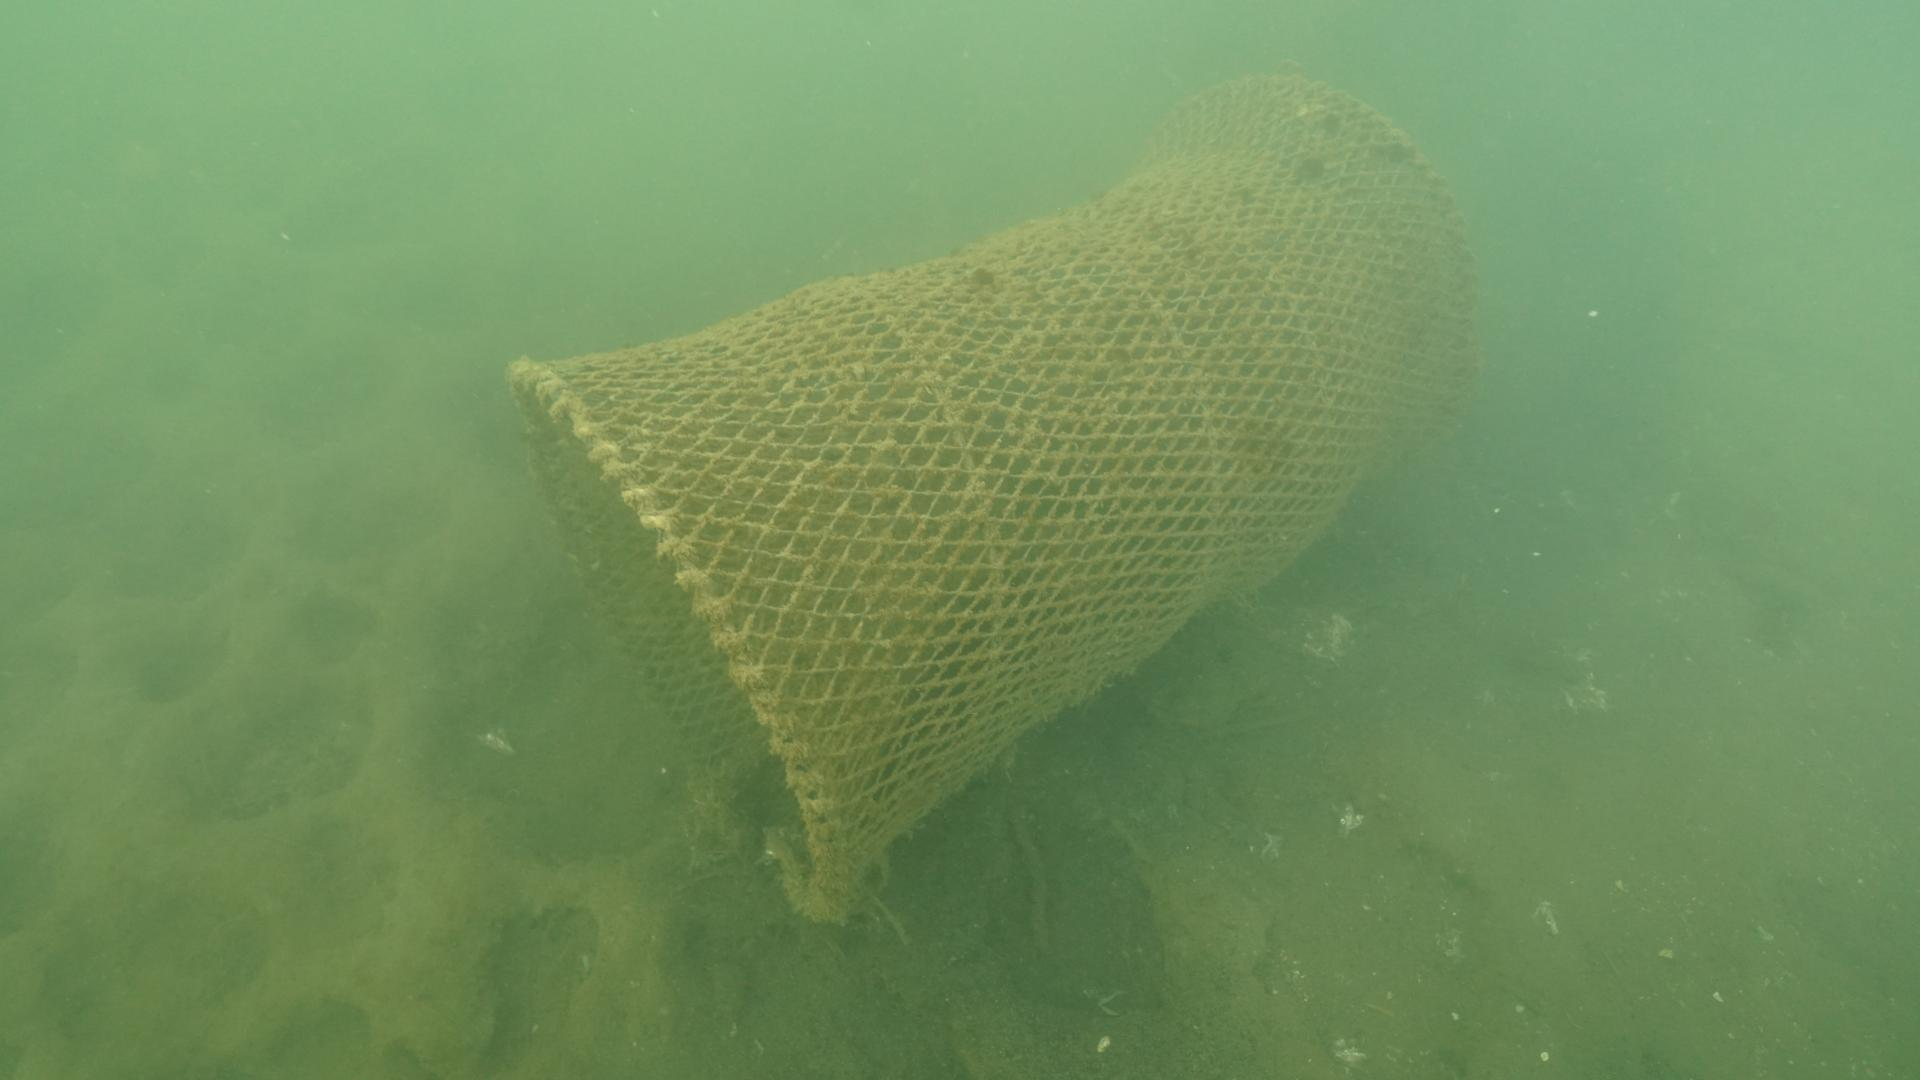spring fish trap: (496, 61, 1495, 943)
